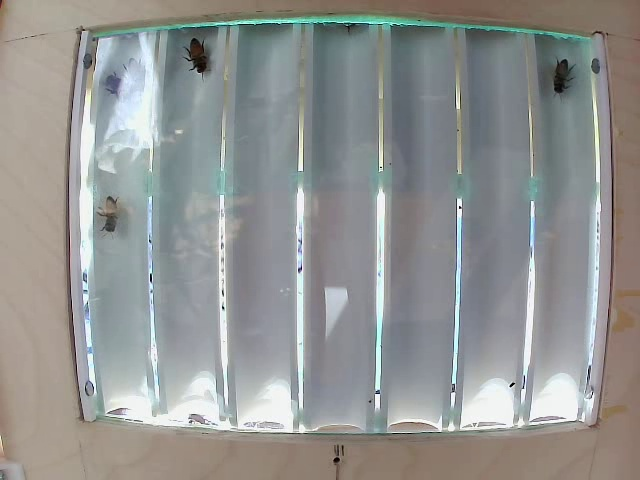bee: (179, 33, 222, 78), (94, 197, 132, 243), (553, 44, 579, 89)
